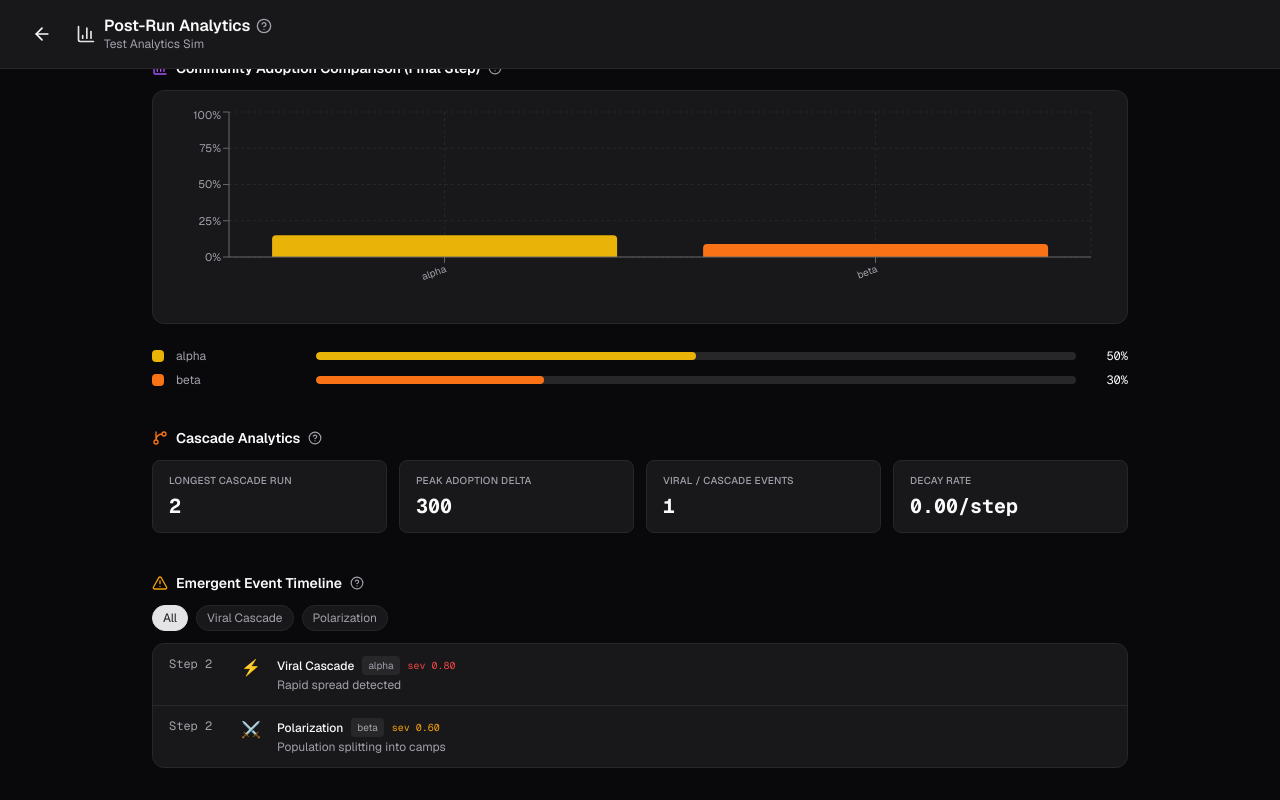
it: AnalyticsPage (26_ANALYTICS_SPEC) › Event Filter Toolbar (v0.2.0) › clicking a type chip hides events of other types
This screenshot has width=1280, height=800.
(page scrolled)
Expected: the text "Rapid spread detected" is shown, top-left (277, 677), bottom-right (401, 693)
Expected: the text "Population splitting into camps" is shown, top-left (277, 739), bottom-right (446, 755)
# Click the polarization chip
Click the button with test id "event-filter-polarization": (345,618) top-left (302, 605), bottom-right (388, 631)
(page scrolled)
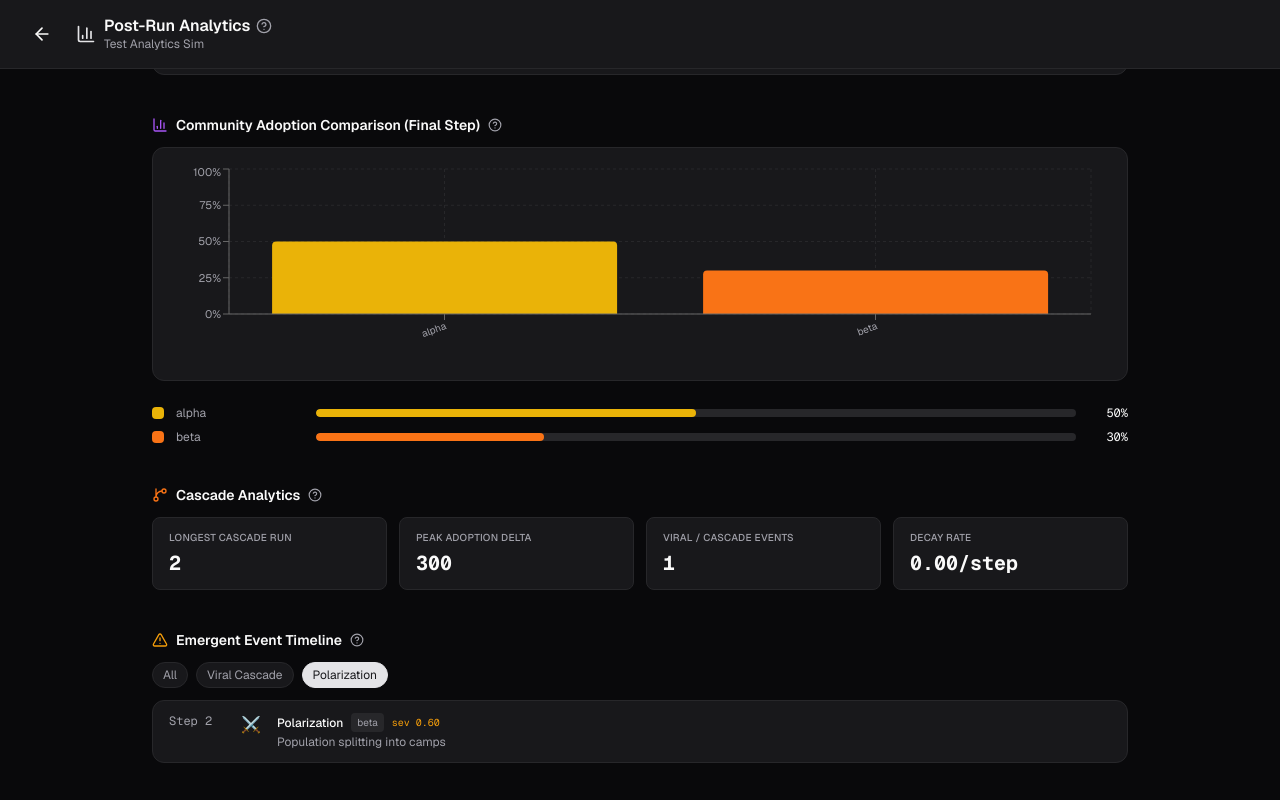
Expected: the text "Population splitting into camps" is shown, top-left (277, 734), bottom-right (446, 750)
Result: the button "Rapid spread detected" is gone
